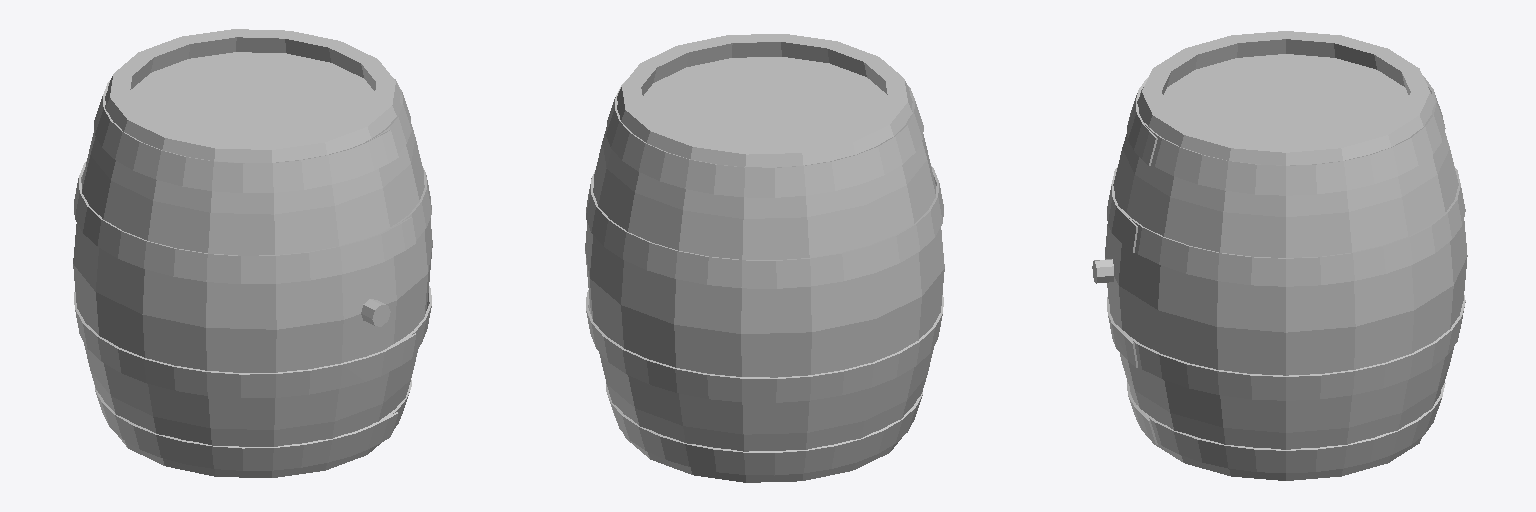
Rendered from barrel.obj.
3 views of the same model, side by side, from view 1: azimuth 30°, elevation 25°; view 2: azimuth 150°, elevation 25°; view 3: azimuth 270°, elevation 25° (orthographic).
Visible parts, largest first — view 1: trn_Barrel; view 2: trn_Barrel; view 3: trn_Barrel.
Boxes of the visible parts, <box> form: trn_Barrel: <box>73,29,432,477</box>; trn_Barrel: <box>585,34,944,482</box>; trn_Barrel: <box>1092,31,1467,480</box>.
Size of the model in its own units: 1 by 0.9982 by 1.03.